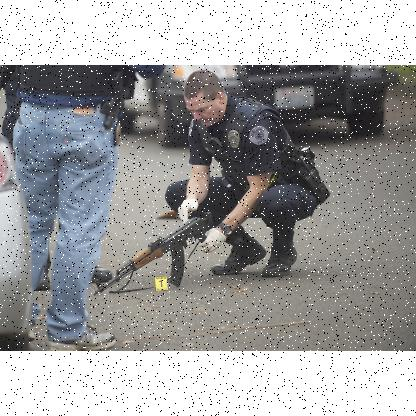gun: (90, 209, 214, 297)
